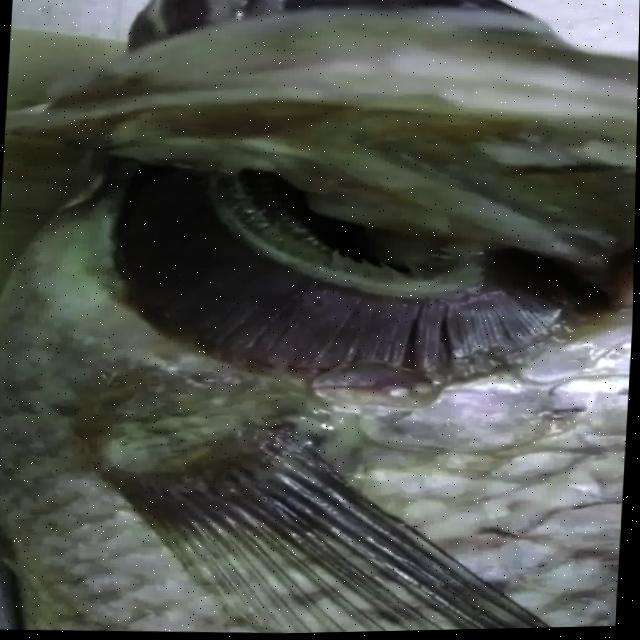Non-Fresh: (88, 139, 602, 403)
